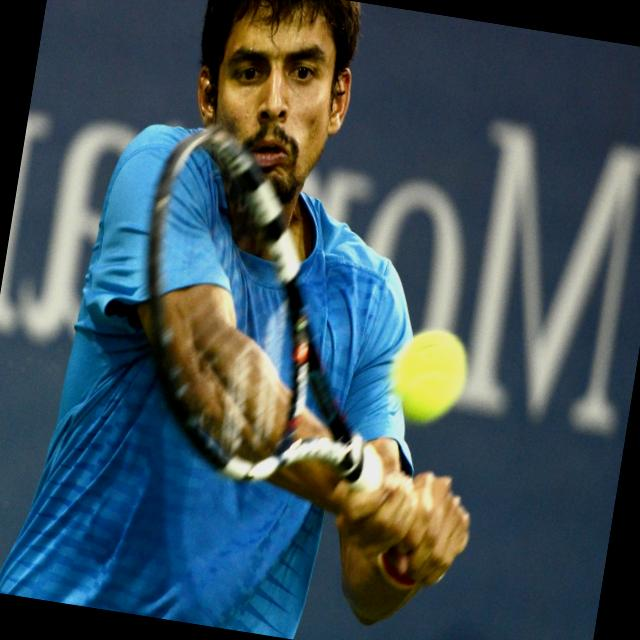Tennis Ball: (382, 320, 475, 430)
